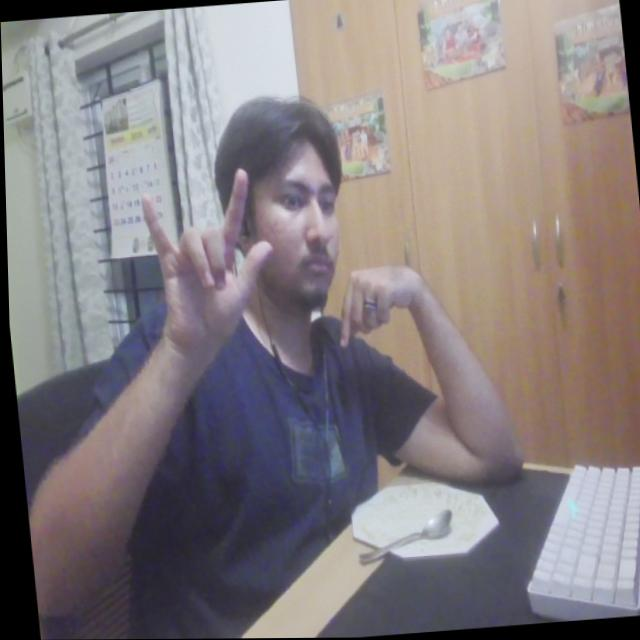iloveyou: (130, 156, 285, 348)
